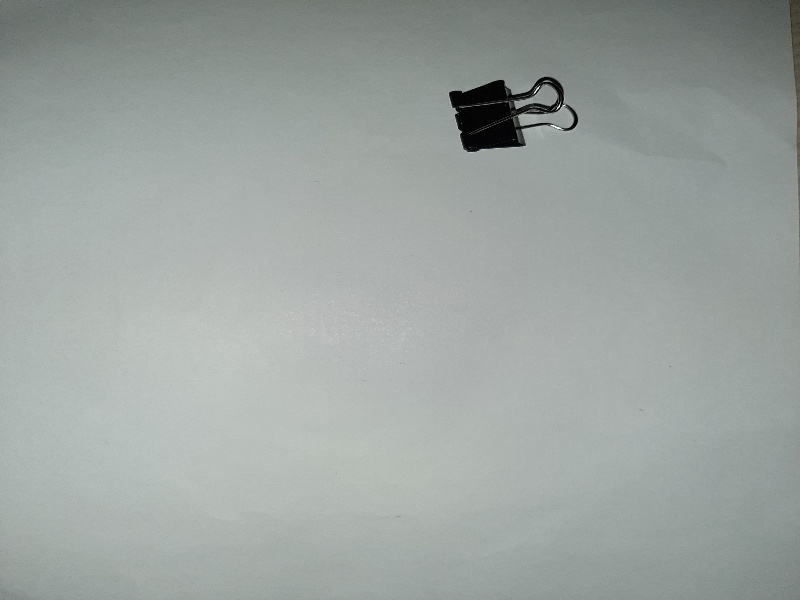Big Paperclip: (441, 70, 588, 156)
